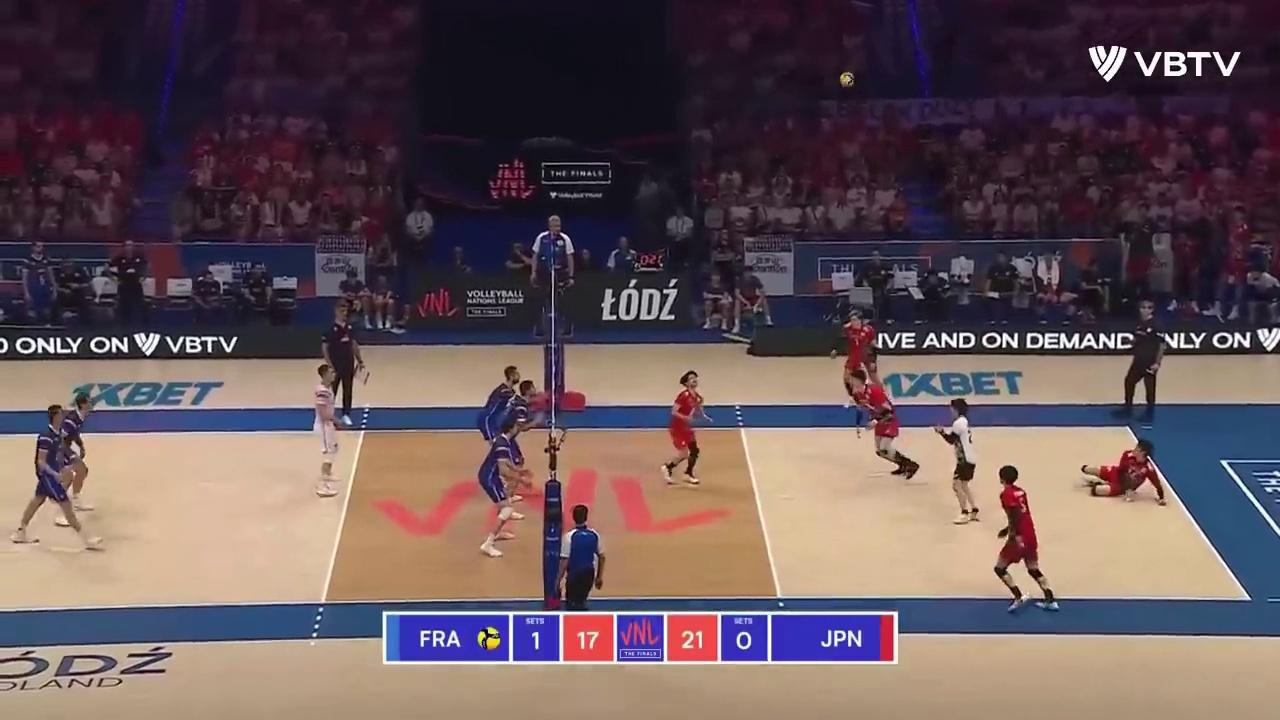ball: (839, 73, 852, 86)
